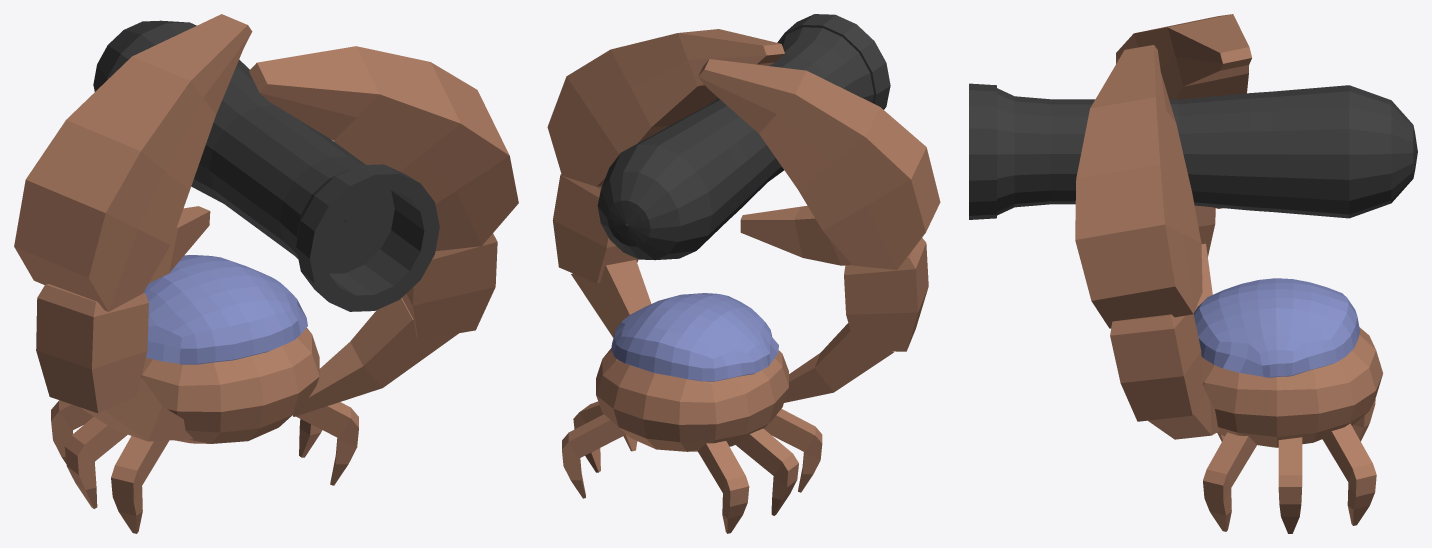
Rendered from SM_CrabBlockout.fbx.
3 renders of one model, left to right at view 1: azimuth 30°, elevation 25°; view 2: azimuth 150°, elevation 25°; view 3: azimuth 270°, elevation 25°, orthographic. The views are drawn at different scales.
Parts seen in each view (by area): view 1: pCylinder3; view 2: pCylinder3; view 3: pCylinder3.
Part boxes in pixels (bbox=[...]): pCylinder3: bbox=[14, 14, 518, 533]; pCylinder3: bbox=[547, 14, 940, 533]; pCylinder3: bbox=[969, 14, 1417, 533].
Size of the model in its own units: 131 by 132 by 122.
